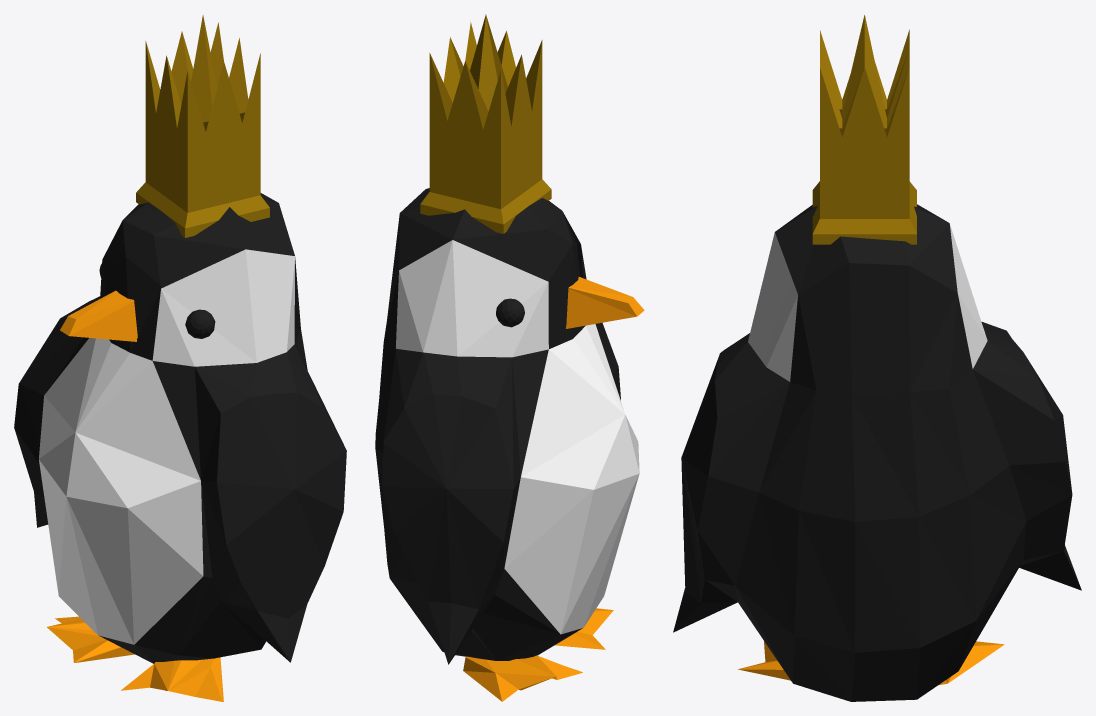
The model's file is koruna.obj.
3 renders of one model, left to right at view 1: azimuth 30°, elevation 25°; view 2: azimuth 150°, elevation 25°; view 3: azimuth 270°, elevation 25°, orthographic. The views are drawn at different scales.
Visible parts, largest first — view 1: mesh1971338956, Cube; view 2: mesh1971338956, Cube; view 3: mesh1971338956, Cube.
Boxes of the visible parts, x1=… form: mesh1971338956: x1=14, y1=193, x2=346, y2=701; Cube: x1=136, y1=15, x2=269, y2=237; mesh1971338956: x1=375, y1=188, x2=644, y2=701; Cube: x1=420, y1=14, x2=551, y2=233; mesh1971338956: x1=673, y1=204, x2=1081, y2=701; Cube: x1=812, y1=15, x2=916, y2=244.
Size of the model in its own units: 6.72 by 16.83 by 9.13.
